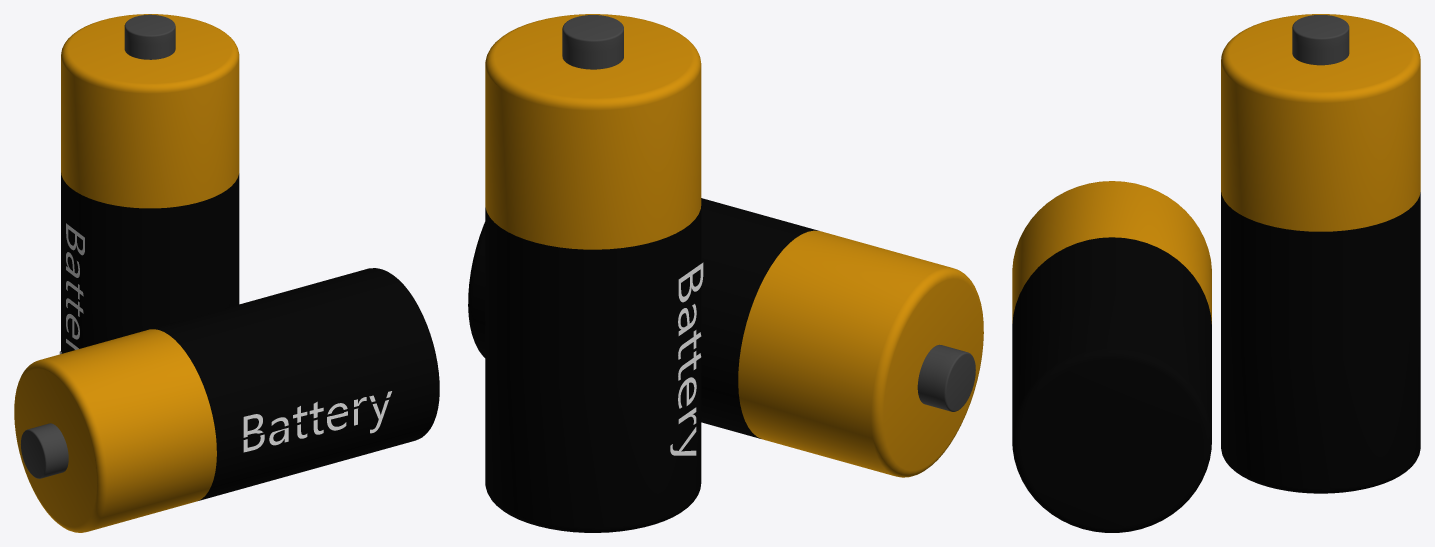
Rendered from battery.fbx.
3 views of the same model, side by side, from view 1: azimuth 30°, elevation 25°; view 2: azimuth 150°, elevation 25°; view 3: azimuth 270°, elevation 25° (orthographic). The views are drawn at different scales.
Visible parts, largest first — view 1: Cylinder; view 2: Cylinder; view 3: Cylinder.
Part boxes in pixels (bbox=[...]): Cylinder: bbox=[14, 14, 439, 532]; Cylinder: bbox=[468, 14, 983, 532]; Cylinder: bbox=[1012, 14, 1420, 532].
Bounding box in the file's own units: 165 × 167 × 141.
